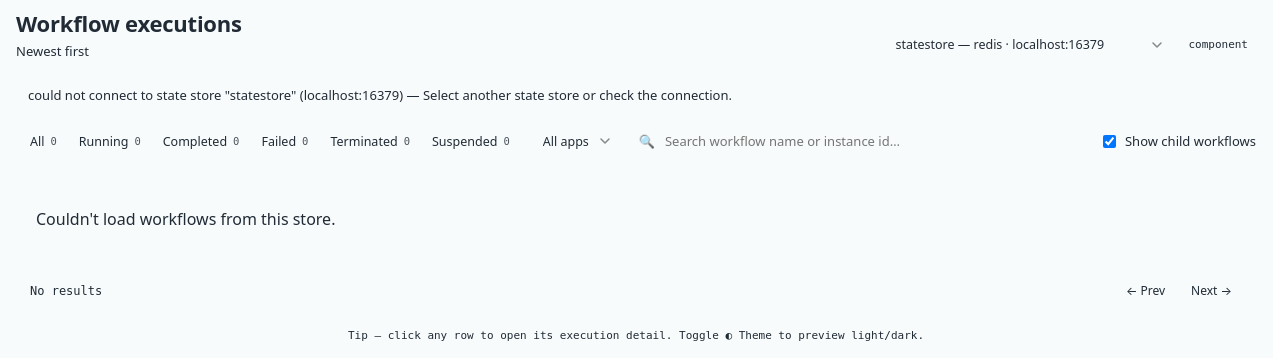
Test: Workflows page — store selector › recovers when the user switches to a reachable store from the degraded state
The image size is (1273, 358).
Expected: the text with test id "load-error-banner" is shown, [28, 86, 732, 104]
Select "statestore — redis · localhost:6379 (active)" in the dropdown with test id "store-select" at x=1028, y=44, box [884, 29, 1172, 60]
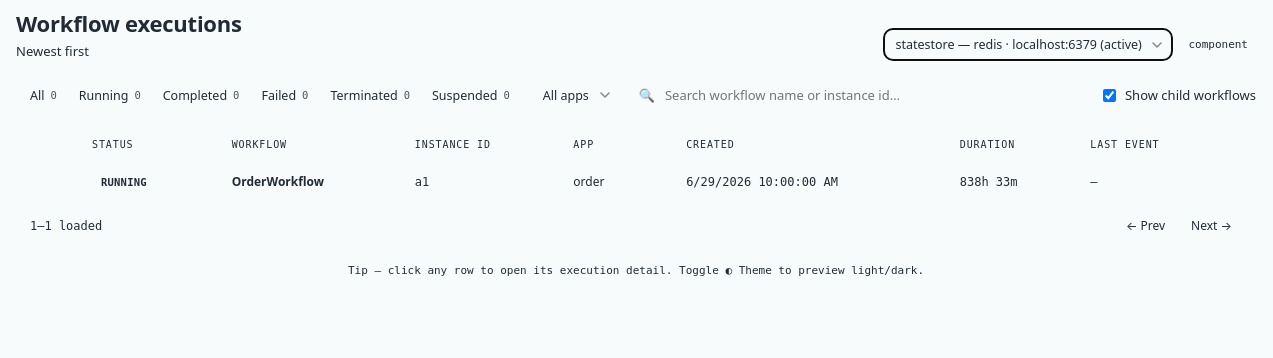
Expected: the link "a1" is shown, [415, 174, 429, 188]
Expected: the text with test id "load-error-banner" is gone
